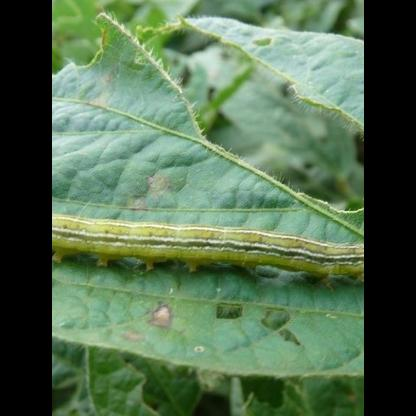oruga: (52, 204, 364, 290)
